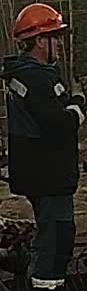gloves: (71, 75, 87, 110)
helmet: (12, 2, 68, 40)
vest: (0, 55, 79, 198)
